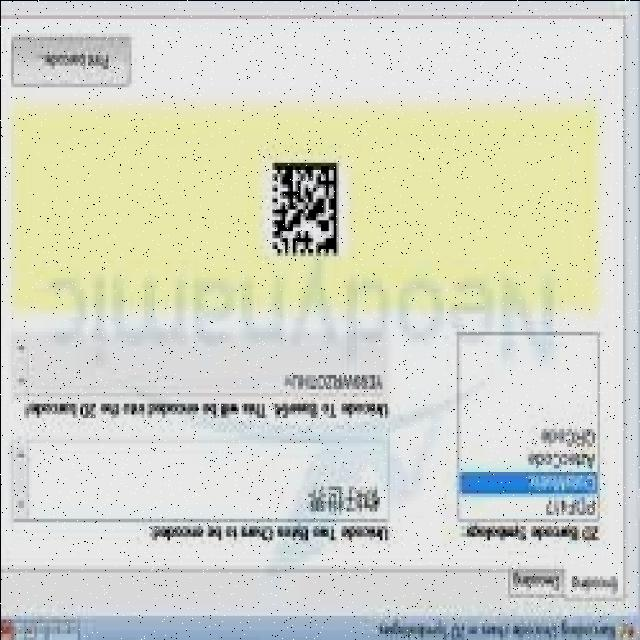datamatrix: (266, 155, 343, 266)
